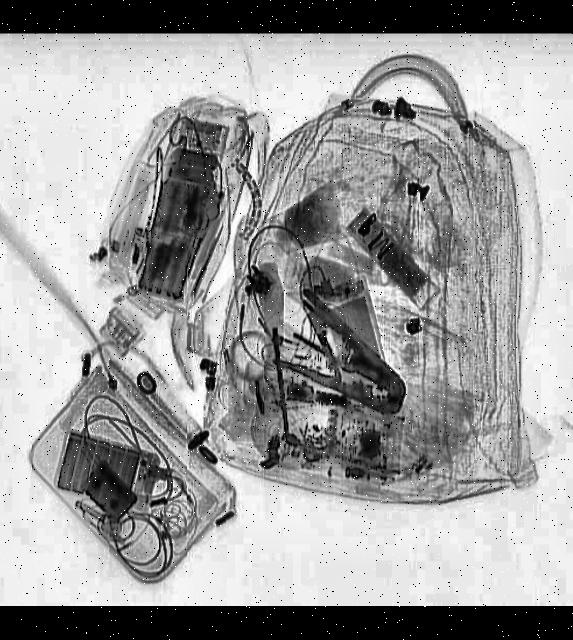Pliers: (258, 283, 430, 436)
